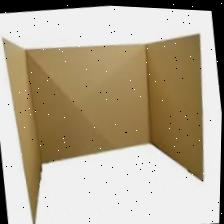cardboard: (0, 10, 224, 224)
